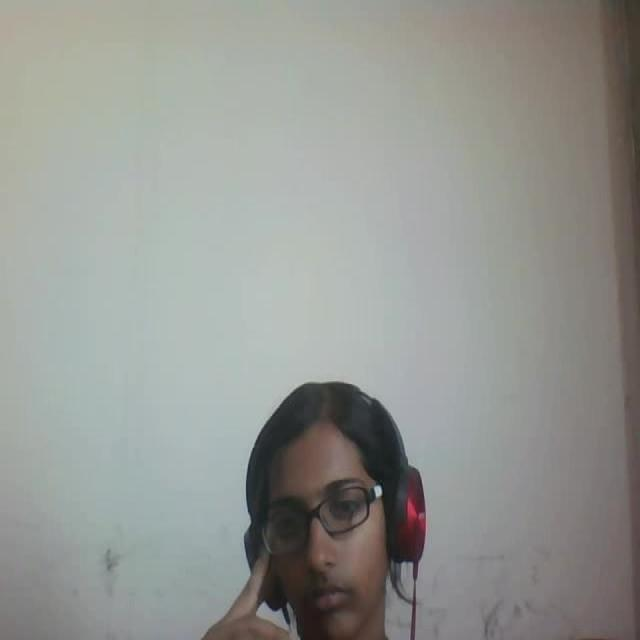Bored: (218, 350, 452, 640)
